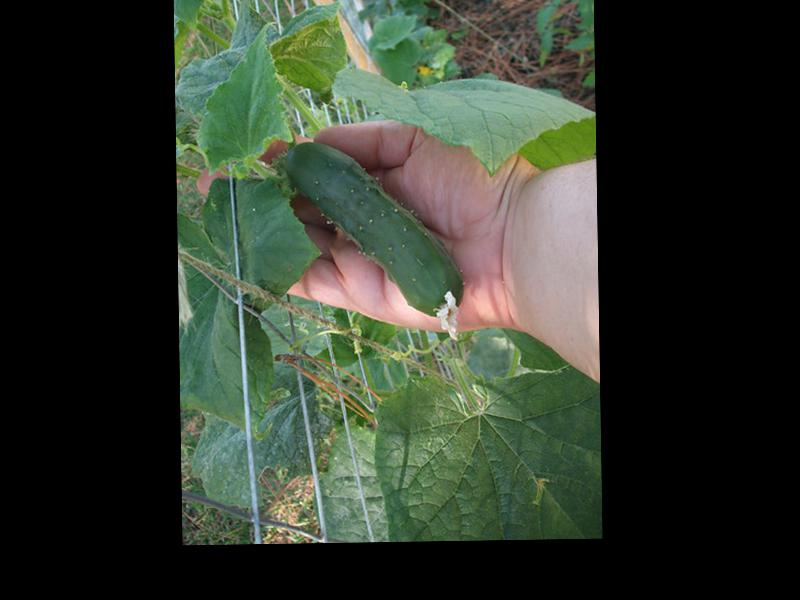Cucumber: (285, 141, 464, 344)
